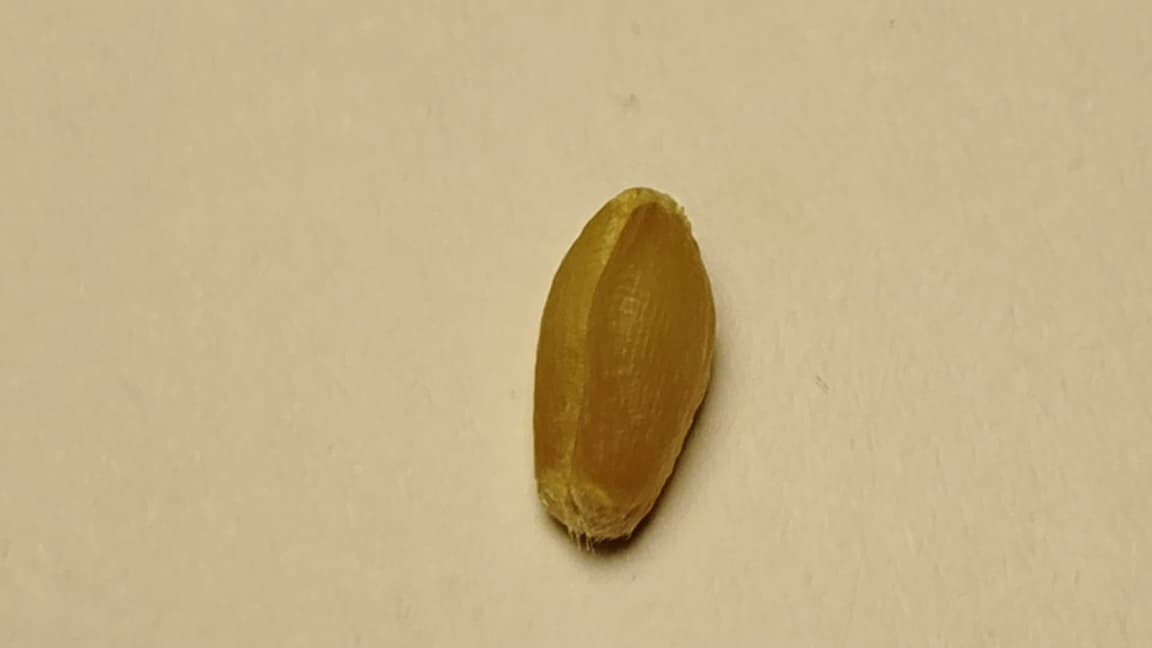healthy: (535, 187, 715, 548)
